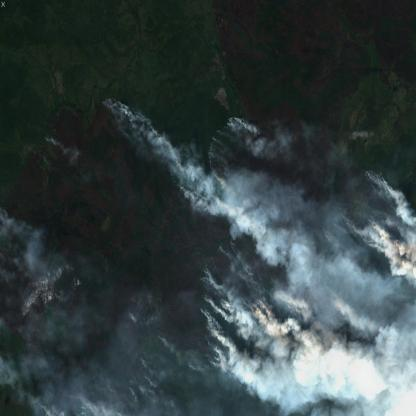fire: (0, 93, 416, 416)
